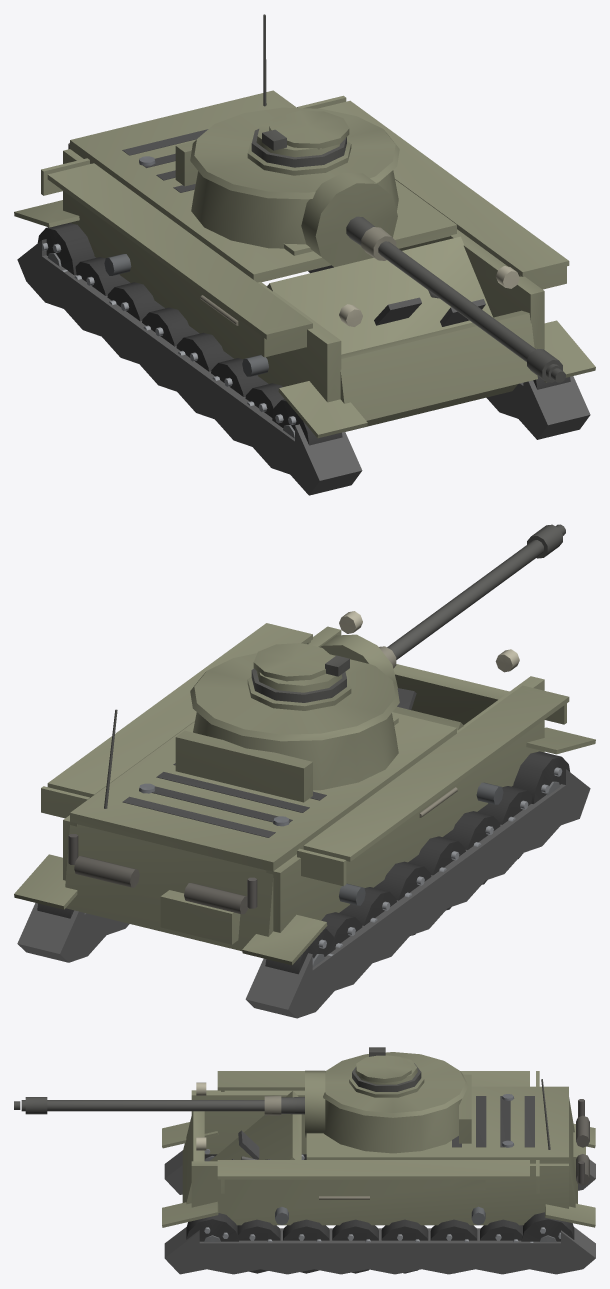
3 views of the same model, one above another, from view 1: azimuth 30°, elevation 25°; view 2: azimuth 150°, elevation 25°; view 3: azimuth 270°, elevation 25° (orthographic). The views are drawn at different scales.
Visible parts, largest first — view 1: hullSide, tracks, hullTop, glacis, lowerPlate, turretSide, turretFront, mantlet, turretRoof, barrel, wheel7, wheel1 (+7 smaller); view 2: hullSide, tracks, hullTop, hullRear, turretSide, turretFront, turretRear, turretRoof, barrel, lowerPlate, wheel6, mantlet (+8 smaller); view 3: hullSide, tracks, hullTop, turretSide, turretFront, barrel, glacis, turretRoof, hullRear, mantlet, lowerPlate, wheel14 (+8 smaller).
Boxes of the visible parts, x1,y1,x2,y2 form: hullSide: [41, 95, 569, 402]; tracks: [14, 200, 595, 495]; hullTop: [70, 90, 456, 282]; glacis: [267, 236, 517, 431]; lowerPlate: [340, 310, 537, 420]; turretSide: [190, 107, 399, 199]; turretFront: [191, 170, 398, 248]; mantlet: [301, 172, 397, 267]; turretRoof: [247, 110, 351, 175]; barrel: [346, 216, 565, 382]; wheel7: [37, 223, 95, 275]; wheel1: [107, 282, 164, 321]; hullSide: [41, 611, 569, 932]; tracks: [14, 727, 595, 1018]; hullTop: [70, 712, 456, 871]; hullRear: [65, 709, 274, 951]; turretSide: [190, 653, 399, 741]; turretFront: [193, 712, 398, 790]; turretRear: [175, 730, 312, 802]; turretRoof: [247, 643, 351, 710]; barrel: [379, 524, 565, 668]; lowerPlate: [393, 664, 509, 724]; wheel6: [512, 751, 569, 803]; mantlet: [320, 634, 397, 688]; hullSide: [191, 1071, 568, 1225]; tracks: [162, 1122, 595, 1274]; hullTop: [306, 1086, 568, 1163]; turretSide: [323, 1052, 468, 1117]; turretFront: [324, 1099, 461, 1153]; barrel: [14, 1095, 304, 1115]; glacis: [210, 1091, 301, 1161]; turretRoof: [349, 1047, 424, 1097]; hullRear: [541, 1079, 589, 1207]; mantlet: [305, 1070, 325, 1138]; lowerPlate: [182, 1111, 204, 1204]; wheel14: [186, 1213, 238, 1242].
Size of the model in its own units: 3.9 by 3.03 by 9.11.
